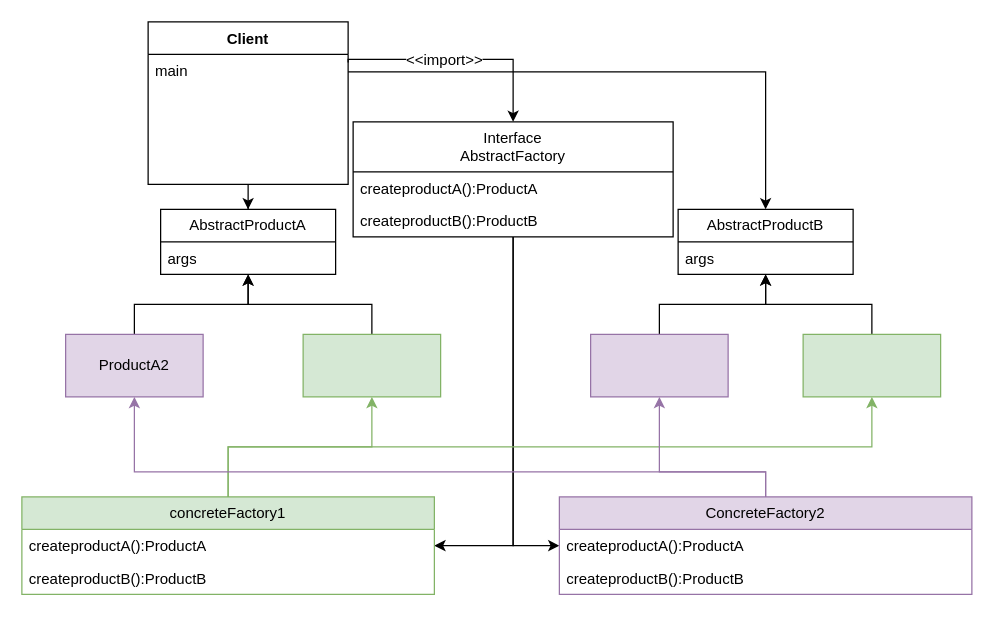
This 994x620 diagram has some shape labels left out. The shapes that lost their labels are listed below. From the top down, each one's centre as x and y in pixels, then its label:
the point at 371,365: ProductA1
the point at 658,365: ProductB2
the point at 871,365: ProductB1
